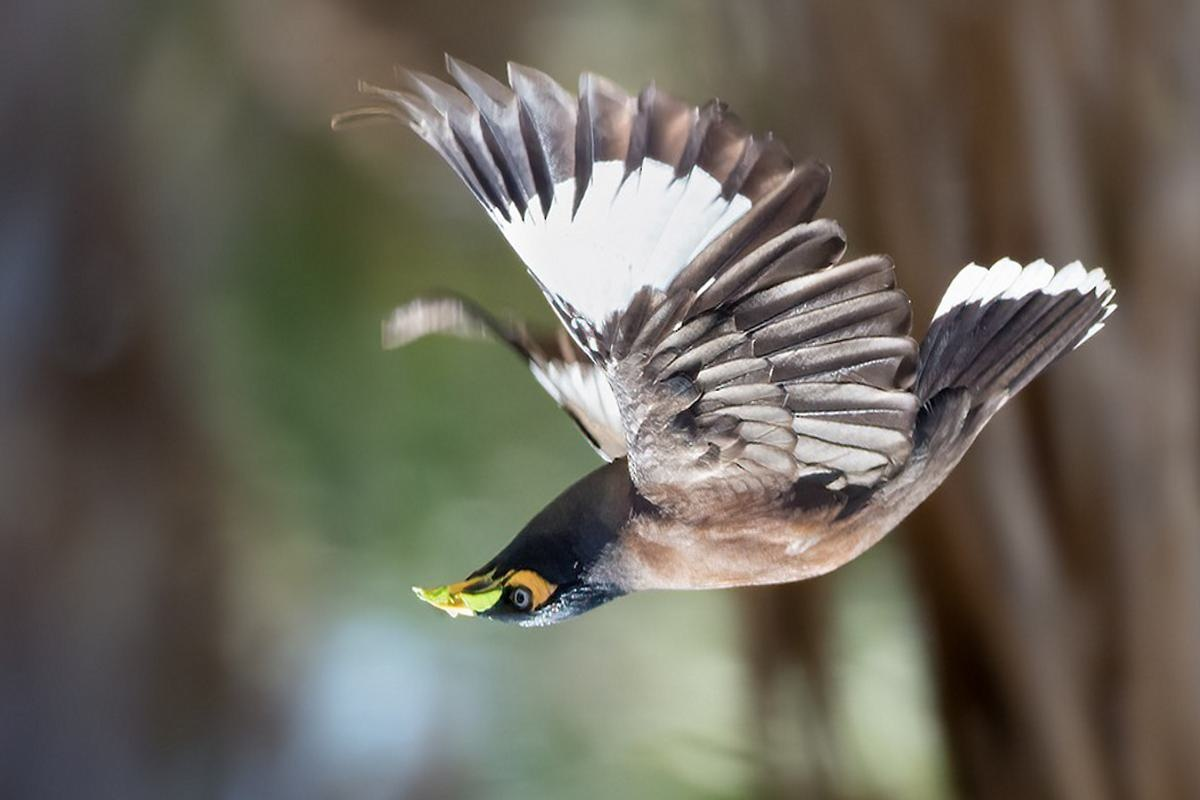myna: (369, 84, 1090, 652)
